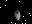person: (15, 9, 23, 23)
